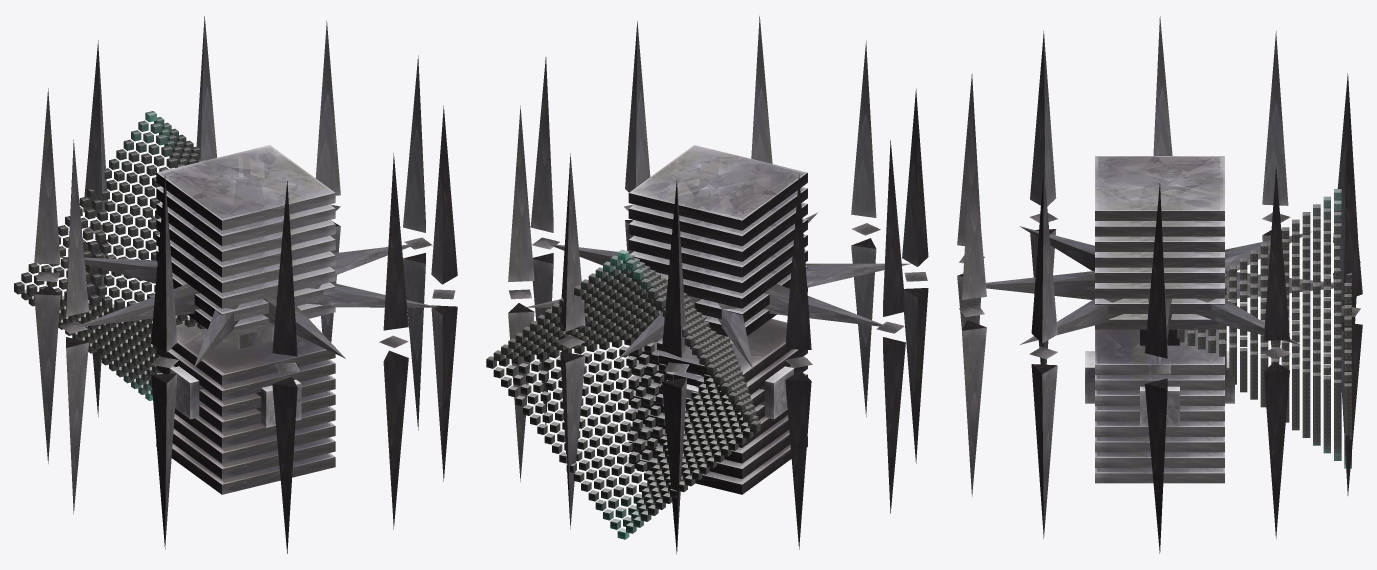
File: eba004.glb
3 views of the same model, side by side, from view 1: azimuth 30°, elevation 25°; view 2: azimuth 150°, elevation 25°; view 3: azimuth 270°, elevation 25° (orthographic).
Visible parts, largest first — view 1: eba004; view 2: eba004; view 3: eba004.
Part boxes in pixels (x1,y1,x2,y2): eba004: (14,16,457,553); eba004: (486,16,928,554); eba004: (957,16,1362,553).
Size of the model in its own units: 40.32 by 39.57 by 38.8.
5 materials, 5 textured.
